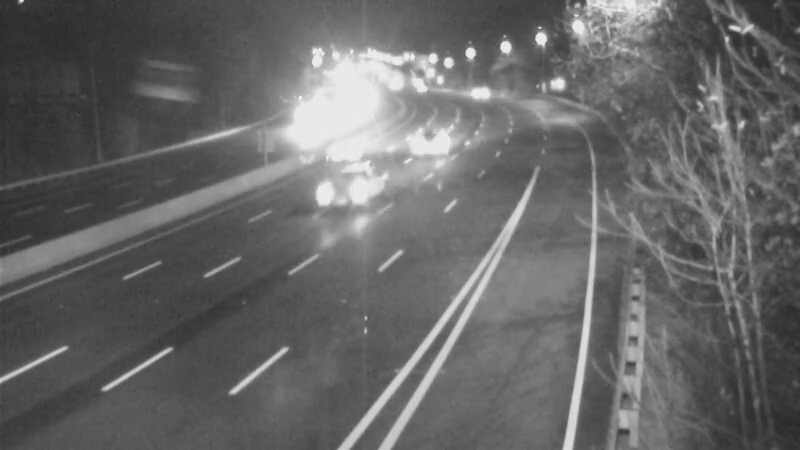vehicle: (304, 149, 384, 229), (387, 55, 437, 105), (368, 60, 418, 110), (396, 63, 446, 113), (459, 67, 509, 117), (401, 114, 451, 164), (323, 125, 373, 175), (275, 97, 325, 147)
